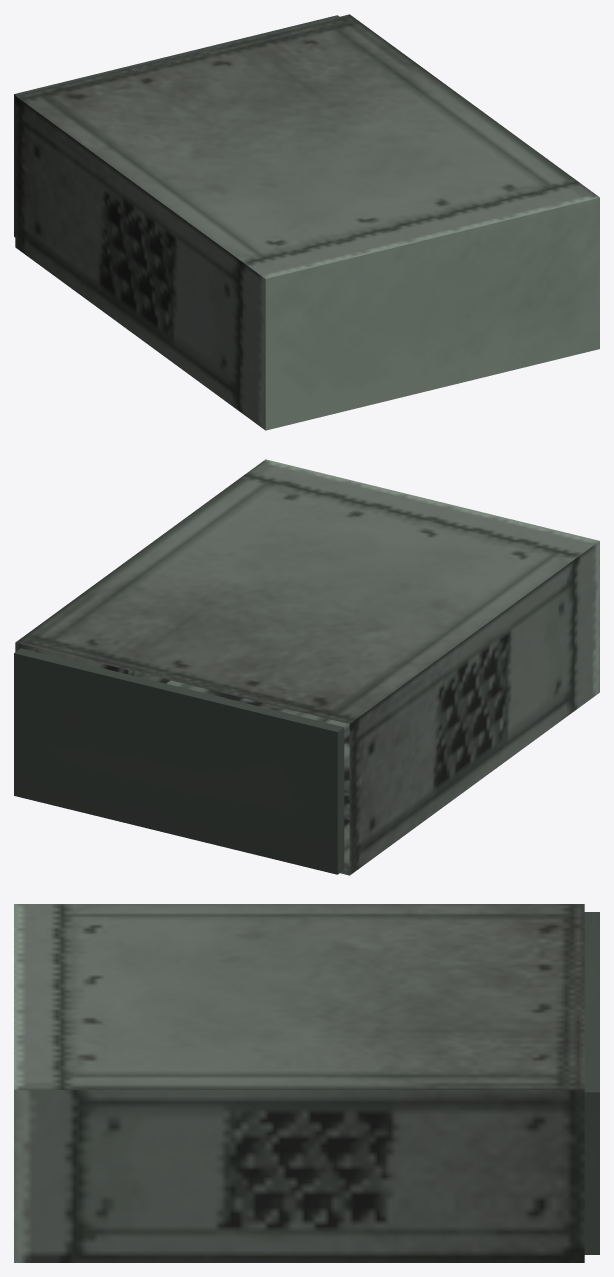
Rendered from pz_g020_furniture_storage_02_green_wall_locker.obj.
3 renders of one model, top to bottom at view 1: azimuth 30°, elevation 25°; view 2: azimuth 150°, elevation 25°; view 3: azimuth 270°, elevation 25°, orthographic. The views are drawn at different scales.
Parts seen in each view (by area): view 1: locker_body_front, locker_body_top, locker_body_right, recessed_plinth_front; view 2: locker_body_front, recessed_plinth_bottom, locker_body_right, recessed_plinth_front, locker_body_rear, recessed_plinth_right, locker_body_left; view 3: locker_body_front, locker_body_left, recessed_plinth_front, recessed_plinth_left.
Boxes of the visible parts, x1,y1,x2,y2 form: locker_body_front: (16,14,599,278); locker_body_top: (265,197,599,430); locker_body_right: (15,96,265,430); recessed_plinth_front: (14,15,339,95); locker_body_front: (15,459,599,723); recessed_plinth_bottom: (14,653,337,874); locker_body_right: (349,541,599,875); recessed_plinth_front: (14,648,343,731); locker_body_rear: (166,680,349,875); recessed_plinth_right: (337,727,344,874); locker_body_left: (15,642,170,683); locker_body_front: (14,904,584,1089); locker_body_left: (14,1090,584,1262); recessed_plinth_front: (584,912,599,1092); recessed_plinth_left: (584,1092,599,1254).
Size of the model in its own units: 0.9386 by 0.4186 by 1.25.
Materials: 1 (1 with a texture image).
